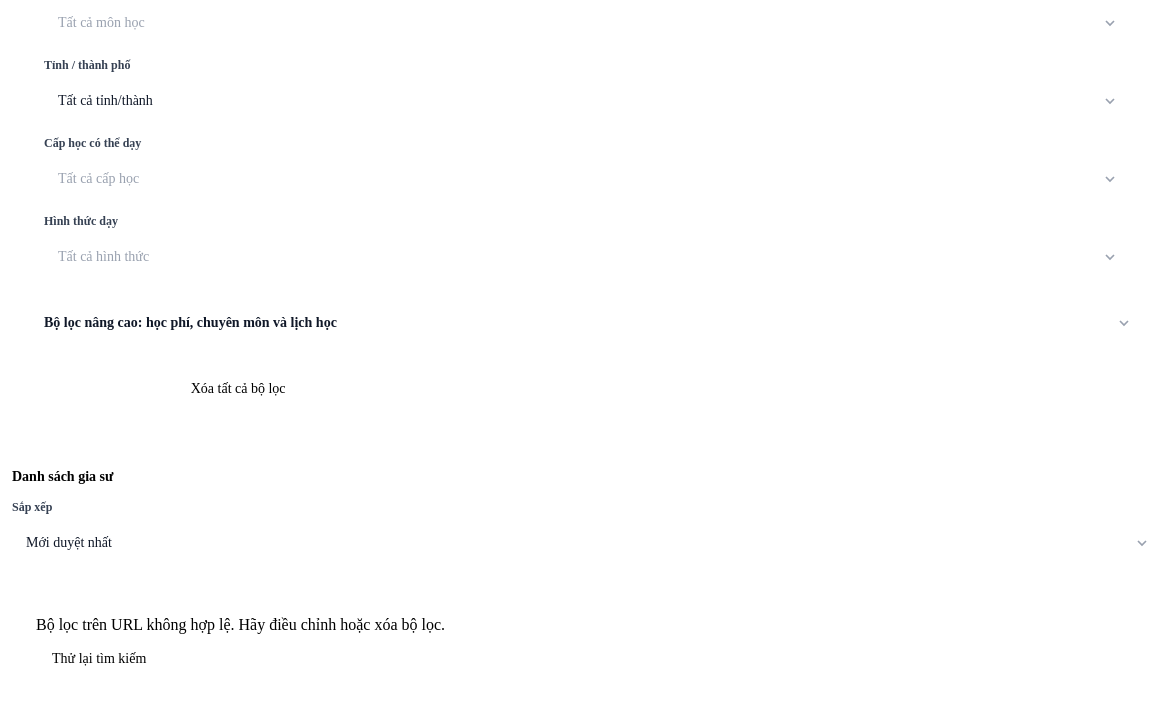
Test case: shows invalid URL feedback and supports retry after network failure
The width and height of the screenshot is (1176, 702).
(page scrolled)
Expected: the message shows "Bộ lọc trên URL không hợp lệ", [36,616,445,633]
What coordinates should you click on to do the following:
click the button "Thử lại tìm kiếm"
I would click on:
 (99, 659)
Its box is [36,637,162,681].
(page scrolled)
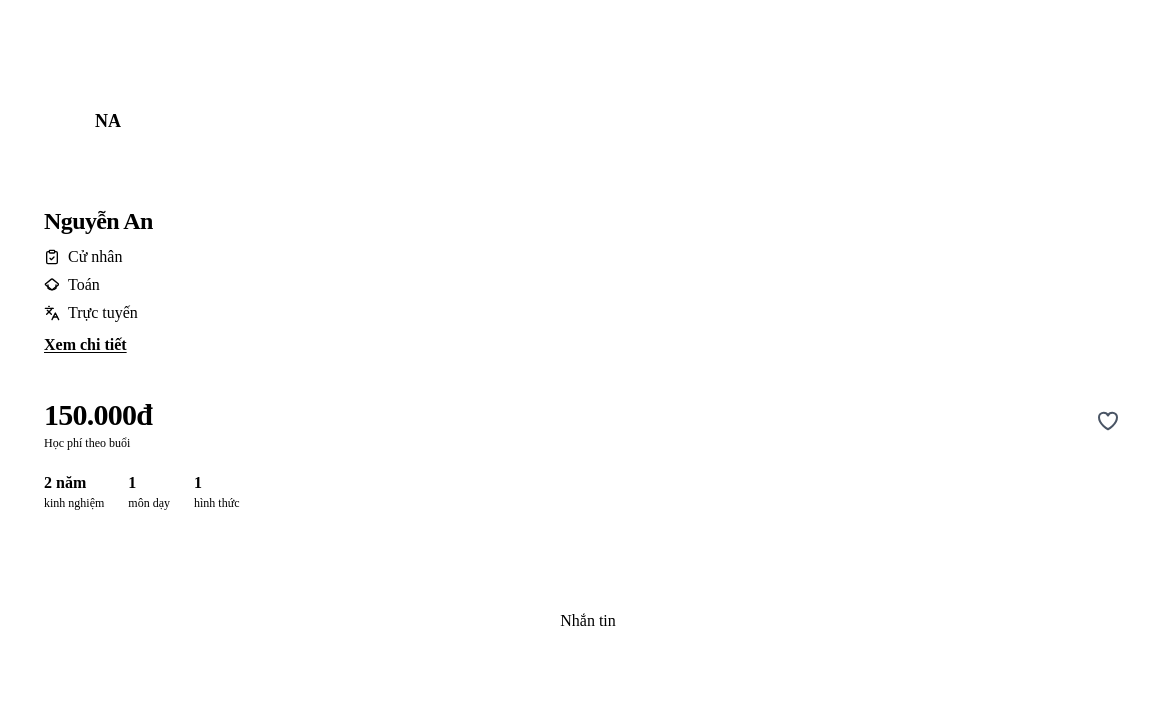
Expected: the link with aria-label "Xem hồ sơ" is shown, [44,336,127,353]
